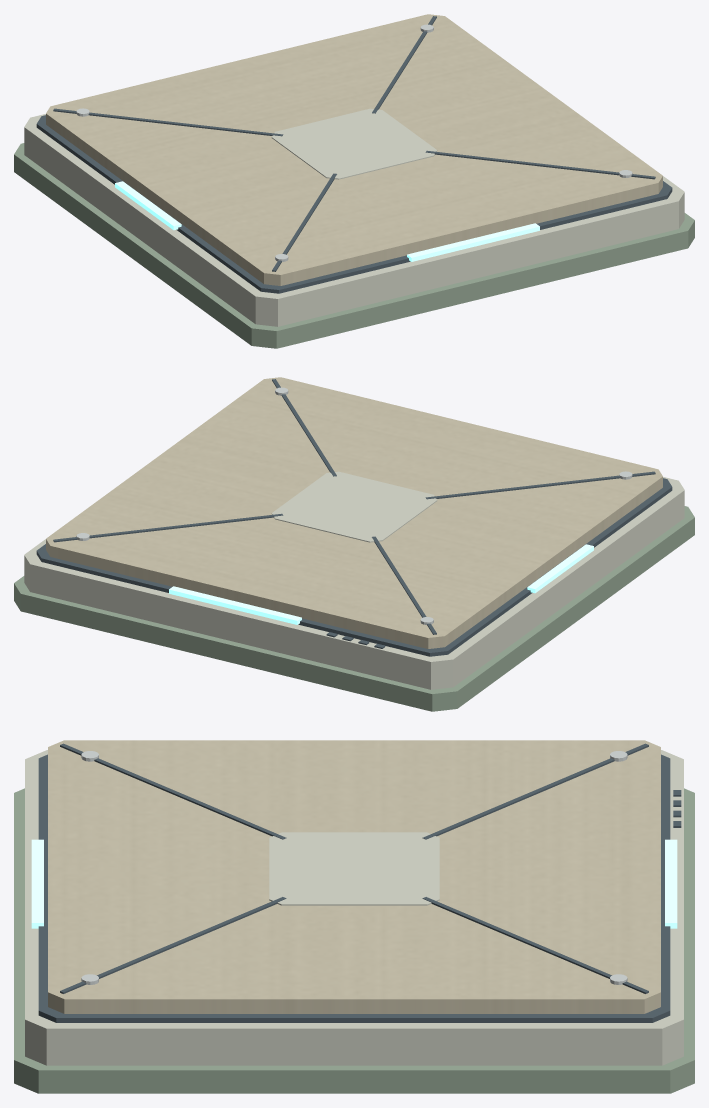
The model's file is m01-metal-quarter-ne.glb.
3 renders of one model, top to bottom at view 1: azimuth 30°, elevation 25°; view 2: azimuth 150°, elevation 25°; view 3: azimuth 270°, elevation 25°, orthographic. The views are drawn at different scales.
Parts seen in each view (by area): view 1: quarter-ne/003, quarter-ne/001, quarter-ne/000, quarter-ne/004, quarter-ne/002, quarter-ne/014, quarter-ne/015, quarter-ne/008, quarter-ne/005; view 2: quarter-ne/003, quarter-ne/001, quarter-ne/000, quarter-ne/004, quarter-ne/002, quarter-ne/013, quarter-ne/015, quarter-ne/007, quarter-ne/006; view 3: quarter-ne/003, quarter-ne/001, quarter-ne/000, quarter-ne/004, quarter-ne/002, quarter-ne/013, quarter-ne/014, quarter-ne/007, quarter-ne/008, quarter-ne/005, quarter-ne/006.
Part boxes in pixels (bbox=[...]): quarter-ne/003: bbox=[46, 14, 662, 285]; quarter-ne/001: bbox=[24, 114, 684, 326]; quarter-ne/000: bbox=[14, 143, 694, 348]; quarter-ne/004: bbox=[271, 108, 437, 179]; quarter-ne/002: bbox=[36, 115, 672, 293]; quarter-ne/014: bbox=[407, 223, 539, 261]; quarter-ne/015: bbox=[115, 181, 181, 230]; quarter-ne/008: bbox=[425, 150, 655, 179]; quarter-ne/005: bbox=[53, 108, 283, 136]; quarter-ne/003: bbox=[46, 377, 662, 648]; quarter-ne/001: bbox=[24, 477, 684, 689]; quarter-ne/000: bbox=[14, 506, 694, 711]; quarter-ne/004: bbox=[271, 471, 437, 542]; quarter-ne/002: bbox=[36, 478, 672, 656]; quarter-ne/013: bbox=[169, 586, 301, 624]; quarter-ne/015: bbox=[527, 544, 593, 593]; quarter-ne/007: bbox=[53, 513, 283, 542]; quarter-ne/006: bbox=[425, 471, 655, 499]; quarter-ne/003: bbox=[48, 740, 660, 1013]; quarter-ne/001: bbox=[25, 750, 683, 1065]; quarter-ne/000: bbox=[14, 788, 694, 1093]; quarter-ne/004: bbox=[269, 832, 439, 905]; quarter-ne/002: bbox=[38, 754, 670, 1022]; quarter-ne/013: bbox=[665, 839, 677, 928]; quarter-ne/014: bbox=[31, 839, 43, 928]; quarter-ne/007: bbox=[422, 897, 648, 993]; quarter-ne/008: bbox=[60, 897, 286, 993]; quarter-ne/005: bbox=[422, 743, 648, 839]; quarter-ne/006: bbox=[60, 743, 286, 839].
Size of the model in its own units: 0.5 by 0.0678 by 0.5.
Materials: 6 (1 with a texture image).
